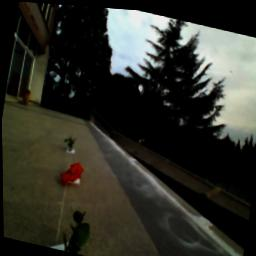herb: (59, 204, 95, 256), (63, 134, 78, 154)
wild: (58, 159, 85, 190)
